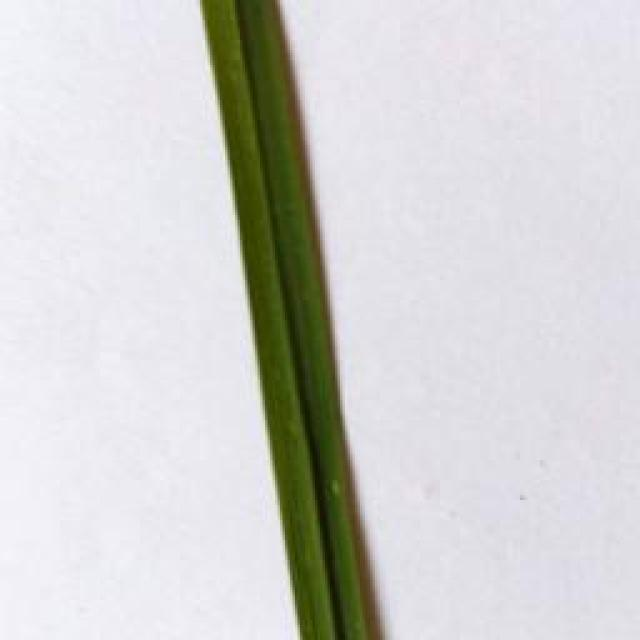Healthy-Plant: (195, 0, 377, 638)
